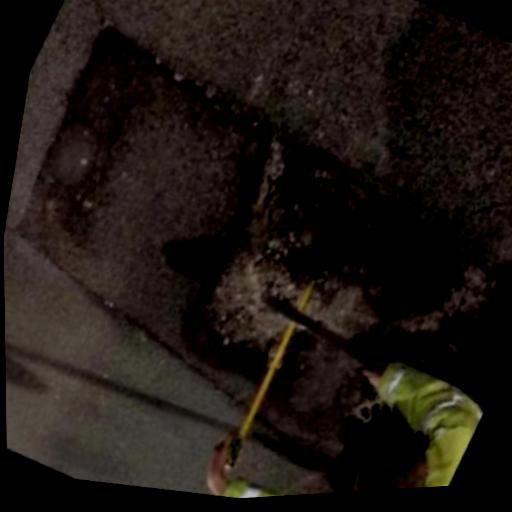pothole: (247, 128, 512, 273)
